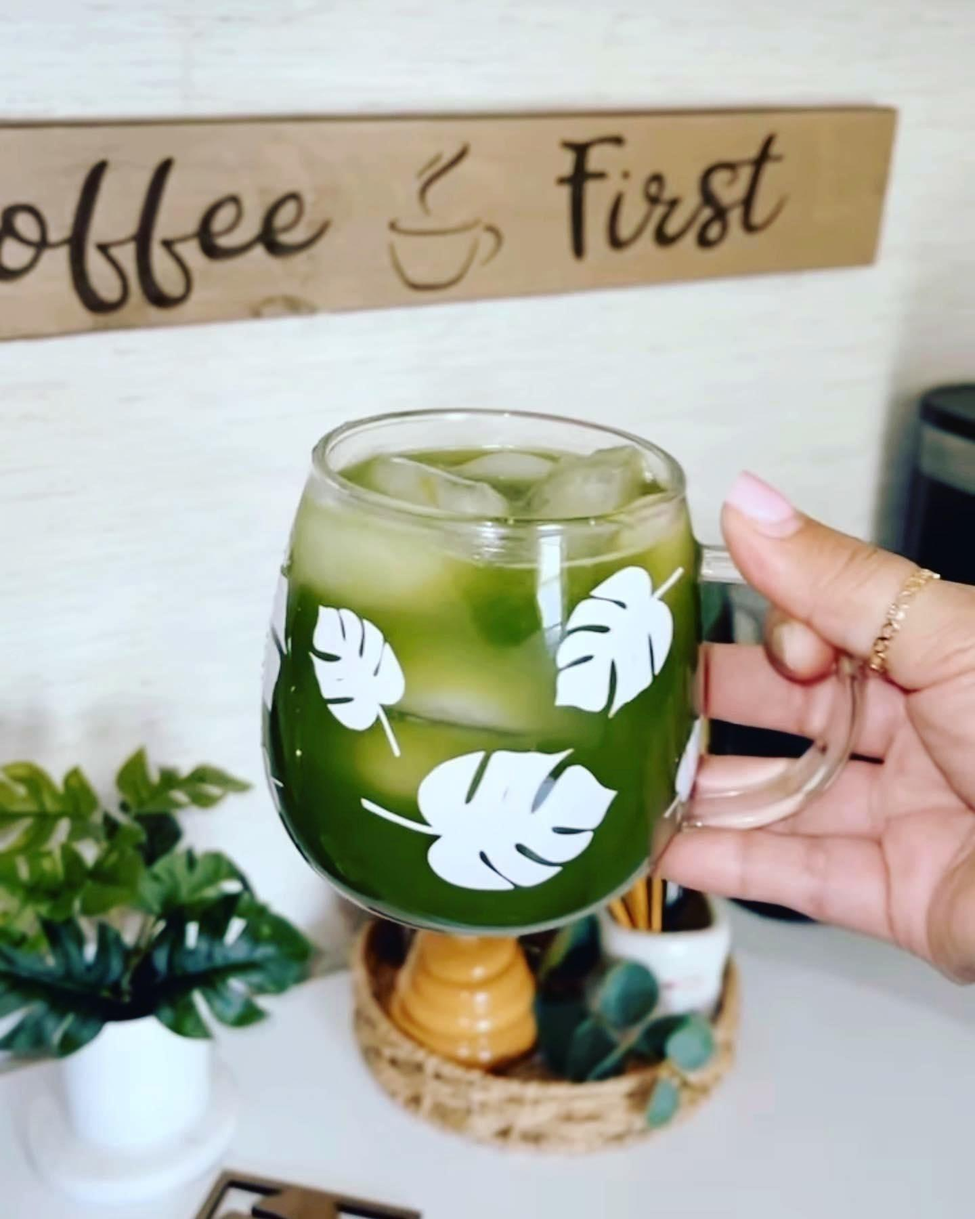glass-mug: (250, 400, 865, 946)
